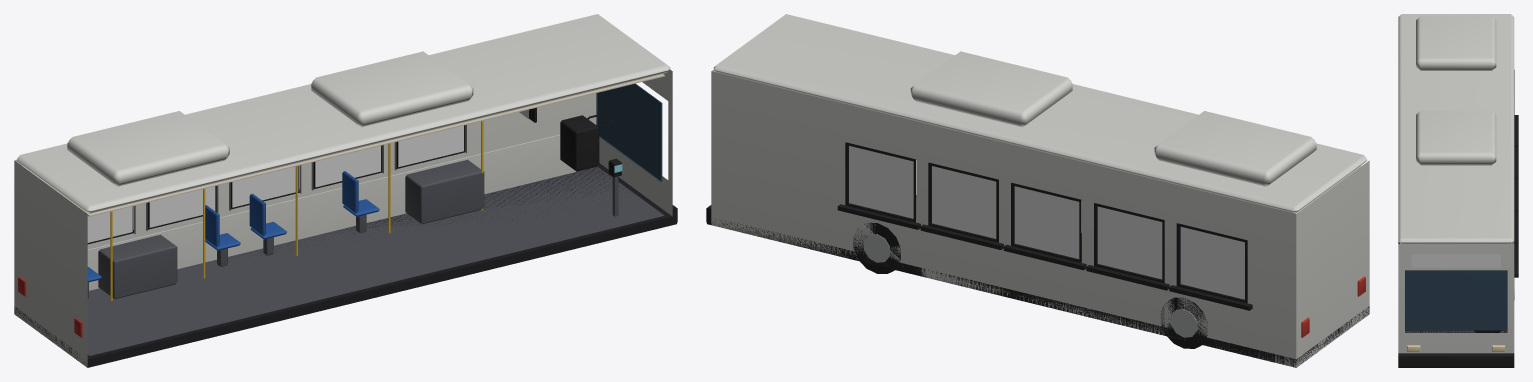
The model's file is BusMIA.fbx.
3 views of the same model, side by side, from view 1: azimuth 30°, elevation 25°; view 2: azimuth 150°, elevation 25°; view 3: azimuth 270°, elevation 25° (orthographic). The views are drawn at different scales.
Visible parts, largest first — view 1: BusMIA; view 2: BusMIA; view 3: BusMIA.
Part boxes in pixels (left/top/right/bottom): BusMIA: left=14, top=14, right=677, bottom=367; BusMIA: left=706, top=14, right=1369, bottom=367; BusMIA: left=1398, top=14, right=1518, bottom=367.
Bounding box in the file's own units: 12.16 × 3.65 × 2.7.
